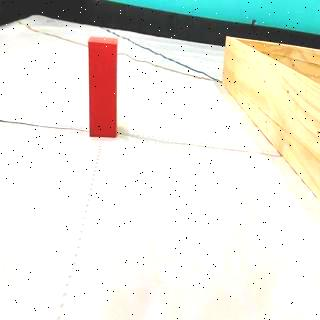redbox: (87, 35, 119, 139)
